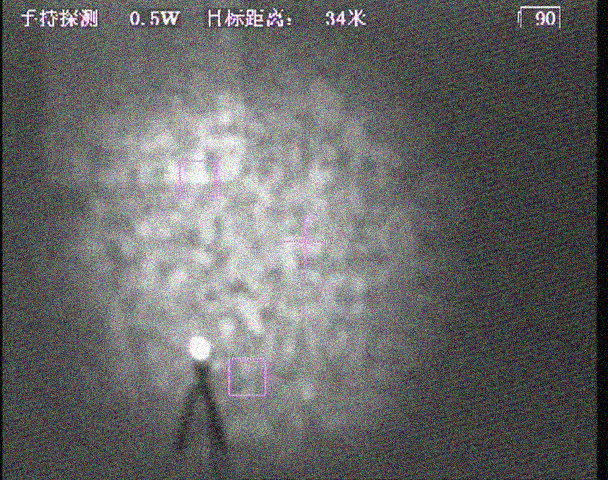my: (185, 334, 215, 361)
